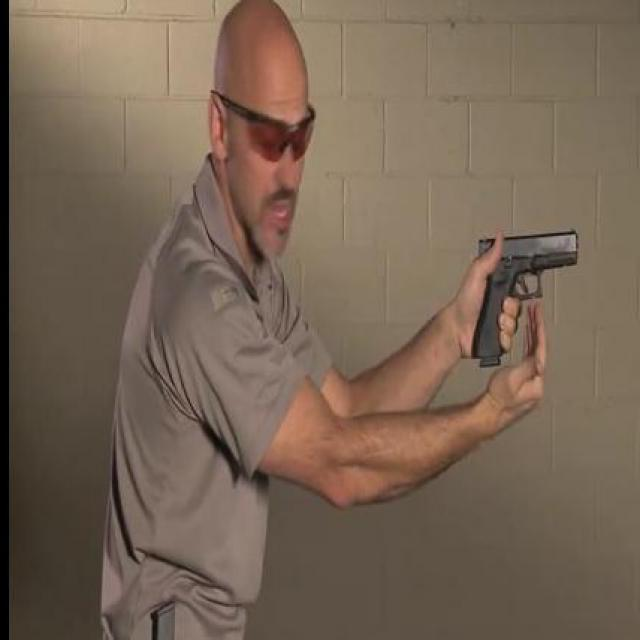Gun: (468, 226, 583, 366)
